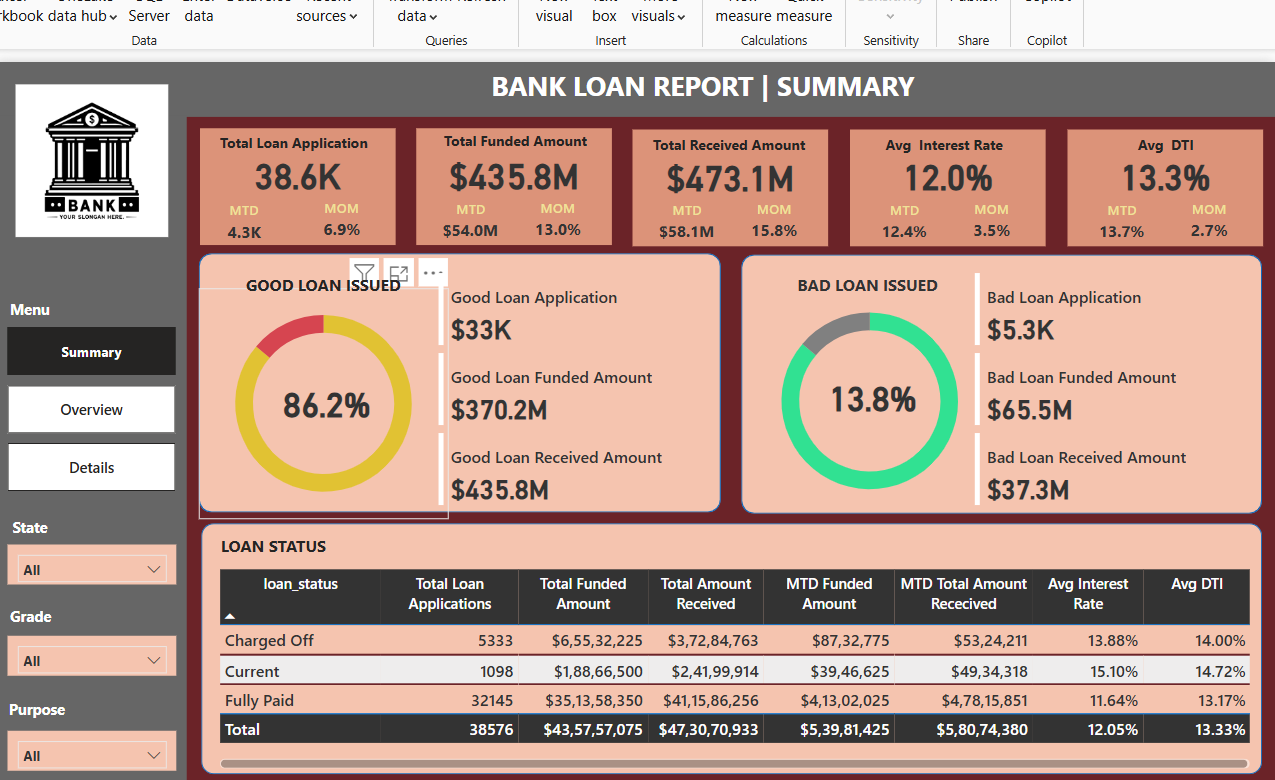

The dashboard page shown, as its layout file describes it:
{"tool":"powerbi","page":{"name":"Summary","canvas":[1280,720],"ordinal":0},"visuals":[{"type":"shape","box":[203.9,191.8,522.4,259.4],"z":0},{"type":"donutChart","fields":{"Category":["bank_loan_data.Good VS Bad loan"],"Y":["bank_loan_data.Total Loan Applications"]},"box":[203.9,226.8,249.7,230.4],"z":1000},{"type":"shape","box":[0,0,1280,54.9],"z":2000},{"type":"shape","box":[0,54.3,191.8,666],"z":3000},{"type":"shape","box":[204.4,65.7,195.6,116.8],"z":3000,"group":"g1"},{"type":"shape","box":[421.3,65.9,195.6,116.8],"z":3000,"group":"g2"},{"type":"shape","box":[638.3,67.2,195.6,116.8],"z":3000,"group":"g3"},{"type":"shape","box":[855.2,67.2,195.6,116.8],"z":3000,"group":"g4"},{"type":"shape","box":[1072.1,67.2,195.6,116.8],"z":3000,"group":"g5"},{"type":"textbox","box":[491.3,0,447.3,52.1],"z":4000},{"type":"card","fields":{"Values":["bank_loan_data.Total Loan Applications"]},"box":[204.4,86.1,195.6,51.1],"z":4000,"group":"g1"},{"type":"card","fields":{"Values":["bank_loan_data.Total Funded Amount"]},"box":[421.3,86.3,195.6,51.1],"z":4000,"group":"g2"},{"type":"card","fields":{"Values":["bank_loan_data.Avg Interest Rate"]},"box":[855.2,87.6,195.6,51.1],"z":4000,"group":"g4"},{"type":"card","fields":{"Values":["bank_loan_data.Avg DTI"]},"box":[1072.1,87.6,195.6,51.1],"z":4000,"group":"g5"},{"type":"card","fields":{"Values":["bank_loan_data.Total Amount Received"]},"box":[638.3,87.7,195.6,51.1],"z":4000,"group":"g3"},{"type":"textbox","box":[436,63.3,179.8,32.9],"z":5000,"group":"g2"},{"type":"textbox","box":[219,65.7,166.4,30.7],"z":5000,"group":"g1"},{"type":"textbox","box":[634.2,66.9,208.6,32.9],"z":5000,"group":"g3"},{"type":"textbox","box":[869.8,67.2,166.4,30.7],"z":5000,"group":"g4"},{"type":"textbox","box":[1086.7,67.2,166.4,30.7],"z":5000,"group":"g5"},{"type":"card","fields":{"Values":["bank_loan_data.Good Loan %"]},"box":[262.1,315.6,138.6,50.8],"z":5000},{"type":"card","title":"MTD","fields":{"Values":["bank_loan_data.MTD Funded Amount"]},"box":[438.8,137.4,74.5,42.3],"z":6000,"group":"g2"},{"type":"card","title":"MTD","fields":{"Values":["bank_loan_data.MTD Loan Applications"]},"box":[219,138.7,58.4,48.2],"z":6000,"group":"g1"},{"type":"card","title":"MTD","fields":{"Values":["bank_loan_data.MTD Avg Int Rate"]},"box":[872.7,138.7,74.5,42.3],"z":6000,"group":"g4"},{"type":"card","title":"MTD","fields":{"Values":["bank_loan_data.MTD Avg DTI"]},"box":[1089.6,138.7,74.5,42.3],"z":6000,"group":"g5"},{"type":"card","title":"MTD","fields":{"Values":["bank_loan_data.MTD Total Amount Rececived"]},"box":[655.8,138.8,74.5,42.3],"z":6000,"group":"g3"},{"type":"textbox","box":[206.3,206.3,217.2,38.6],"z":6000},{"type":"group","id":"g1","title":"Group 1","box":[204.4,65.7,195.6,121.2],"z":7000},{"type":"card","title":"MOM","fields":{"Values":["bank_loan_data.MOM Loan Applications"]},"box":[316.8,135.8,58.4,48.2],"z":7001,"group":"g1"},{"type":"card","title":"MOM","fields":{"Values":["bank_loan_data.MOM Total Funded Amount"]},"box":[533.7,135.9,58.4,48.2],"z":7001,"group":"g2"},{"type":"card","title":"MOM","fields":{"Values":["bank_loan_data.MOM Total Amount Received"]},"box":[750.7,137.3,58.4,48.2],"z":7001,"group":"g3"},{"type":"card","title":"MOM","fields":{"Values":["bank_loan_data.MOM Avg Int Rate"]},"box":[967.6,137.3,58.4,48.2],"z":7001,"group":"g4"},{"type":"card","title":"MOM","fields":{"Values":["bank_loan_data.MOM Avg DTI"]},"box":[1184.5,137.3,58.4,48.2],"z":7001,"group":"g5"},{"type":"group","id":"g2","title":"Group 1","box":[421.3,63.3,195.6,120.8],"z":8000},{"type":"group","id":"g3","title":"Group 1","box":[634.2,66.9,208.6,118.6],"z":9000},{"type":"group","id":"g4","title":"Group 1","box":[855.2,67.2,195.6,118.2],"z":10000},{"type":"shape","box":[206.3,460.9,1060.5,250.9],"z":11000},{"type":"group","id":"g5","title":"Group 1","box":[1072.1,67.2,194.9,119.4],"z":12000},{"type":"shape","box":[746.8,193,521.2,259.4],"z":13000},{"type":"cardVisual","fields":{"Data":["bank_loan_data.Good Loan Application","bank_loan_data.Good Loan Funded Amount","bank_loan_data.Good Loan Received Amount"]},"box":[439.1,206.3,283.5,244.9],"z":14000},{"type":"donutChart","fields":{"Category":["bank_loan_data.Good VS Bad loan"],"Y":["bank_loan_data.Total Loan Applications"]},"box":[750.4,223.2,249.7,230.4],"z":15000},{"type":"textbox","box":[757.6,206.3,209.9,38.6],"z":16000},{"type":"card","fields":{"Values":["bank_loan_data.Bad Loan %"]},"box":[808.3,308.8,137.5,50.7],"z":17000},{"type":"cardVisual","fields":{"Data":["bank_loan_data.Bad Loan Application","bank_loan_data.Bad Loan Funded Amount","bank_loan_data.Bad Loan Received Amount"]},"box":[974.8,206.3,284.7,244.9],"z":18000},{"type":"tableEx","fields":{"Values":["bank_loan_data.loan_status","bank_loan_data.Total Loan Applications","bank_loan_data.Total Funded Amount","bank_loan_data.Total Amount Received","bank_loan_data.MTD Funded Amount","bank_loan_data.MTD Total Amount Rececived","bank_loan_data.Avg Interest Rate","bank_loan_data.Avg DTI"]},"box":[218.4,503.1,1041.2,208.7],"z":19000},{"type":"textbox","box":[216,466.9,217.2,36.2],"z":20000},{"type":"slicer","fields":{"Values":["bank_loan_data.address_state"]},"box":[12.1,482.6,168.9,39.8],"z":21000},{"type":"textbox","box":[12.1,450.2,63.9,32.6],"z":22000},{"type":"slicer","fields":{"Values":["bank_loan_data.grade"]},"box":[12.1,574.3,168.9,39.8],"z":23000},{"type":"textbox","box":[9.7,538.3,63.9,36.2],"z":24000},{"type":"slicer","fields":{"Values":["bank_loan_data.purpose"]},"box":[12.1,668.4,168.9,39.8],"z":25000},{"type":"textbox","box":[8.4,632.4,74.8,36.2],"z":26000},{"type":"pageNavigator","box":[12.1,265.4,168.9,166.5],"z":27000},{"type":"image","box":[12.1,18.1,168.9,162.9],"z":28000},{"type":"textbox","box":[9.7,232.8,63.9,32.6],"z":28001}]}

Visuals, with their boxes on the page's 1280x720 design canvas (x1, y1, x2, y2). These are canvas units, not pixel positions in the 1275x780 screenshot, which may show the page scaled, cropped or inside an application window:
shape: <bbox>204, 192, 726, 451</bbox>
donutChart - bank_loan_data.Good VS Bad loan x bank_loan_data.Total Loan Applications: <bbox>204, 227, 454, 457</bbox>
shape: <bbox>0, 0, 1280, 55</bbox>
shape: <bbox>0, 54, 192, 720</bbox>
shape: <bbox>204, 66, 400, 182</bbox>
shape: <bbox>421, 66, 617, 183</bbox>
shape: <bbox>638, 67, 834, 184</bbox>
shape: <bbox>855, 67, 1051, 184</bbox>
shape: <bbox>1072, 67, 1268, 184</bbox>
textbox: <bbox>491, 0, 939, 52</bbox>
card - bank_loan_data.Total Loan Applications: <bbox>204, 86, 400, 137</bbox>
card - bank_loan_data.Total Funded Amount: <bbox>421, 86, 617, 137</bbox>
card - bank_loan_data.Avg Interest Rate: <bbox>855, 88, 1051, 139</bbox>
card - bank_loan_data.Avg DTI: <bbox>1072, 88, 1268, 139</bbox>
card - bank_loan_data.Total Amount Received: <bbox>638, 88, 834, 139</bbox>
textbox: <bbox>436, 63, 616, 96</bbox>
textbox: <bbox>219, 66, 385, 96</bbox>
textbox: <bbox>634, 67, 843, 100</bbox>
textbox: <bbox>870, 67, 1036, 98</bbox>
textbox: <bbox>1087, 67, 1253, 98</bbox>
card - bank_loan_data.Good Loan %: <bbox>262, 316, 401, 366</bbox>
"MTD" card: <bbox>439, 137, 513, 180</bbox>
"MTD" card: <bbox>219, 139, 277, 187</bbox>
"MTD" card: <bbox>873, 139, 947, 181</bbox>
"MTD" card: <bbox>1090, 139, 1164, 181</bbox>
"MTD" card: <bbox>656, 139, 730, 181</bbox>
textbox: <bbox>206, 206, 424, 245</bbox>
"Group 1" group: <bbox>204, 66, 400, 187</bbox>
"MOM" card: <bbox>317, 136, 375, 184</bbox>
"MOM" card: <bbox>534, 136, 592, 184</bbox>
"MOM" card: <bbox>751, 137, 809, 186</bbox>
"MOM" card: <bbox>968, 137, 1026, 186</bbox>
"MOM" card: <bbox>1184, 137, 1243, 186</bbox>
"Group 1" group: <bbox>421, 63, 617, 184</bbox>
"Group 1" group: <bbox>634, 67, 843, 186</bbox>
"Group 1" group: <bbox>855, 67, 1051, 185</bbox>
shape: <bbox>206, 461, 1267, 712</bbox>
"Group 1" group: <bbox>1072, 67, 1267, 187</bbox>
shape: <bbox>747, 193, 1268, 452</bbox>
cardVisual - bank_loan_data.Good Loan Application x bank_loan_data.Good Loan Funded Amount: <bbox>439, 206, 723, 451</bbox>
donutChart - bank_loan_data.Good VS Bad loan x bank_loan_data.Total Loan Applications: <bbox>750, 223, 1000, 454</bbox>
textbox: <bbox>758, 206, 968, 245</bbox>
card - bank_loan_data.Bad Loan %: <bbox>808, 309, 946, 360</bbox>
cardVisual - bank_loan_data.Bad Loan Application x bank_loan_data.Bad Loan Funded Amount: <bbox>975, 206, 1260, 451</bbox>
tableEx - bank_loan_data.loan_status x bank_loan_data.Total Loan Applications: <bbox>218, 503, 1260, 712</bbox>
textbox: <bbox>216, 467, 433, 503</bbox>
slicer - bank_loan_data.address_state: <bbox>12, 483, 181, 522</bbox>
textbox: <bbox>12, 450, 76, 483</bbox>
slicer - bank_loan_data.grade: <bbox>12, 574, 181, 614</bbox>
textbox: <bbox>10, 538, 74, 574</bbox>
slicer - bank_loan_data.purpose: <bbox>12, 668, 181, 708</bbox>
textbox: <bbox>8, 632, 83, 669</bbox>
pageNavigator: <bbox>12, 265, 181, 432</bbox>
image: <bbox>12, 18, 181, 181</bbox>
textbox: <bbox>10, 233, 74, 265</bbox>
